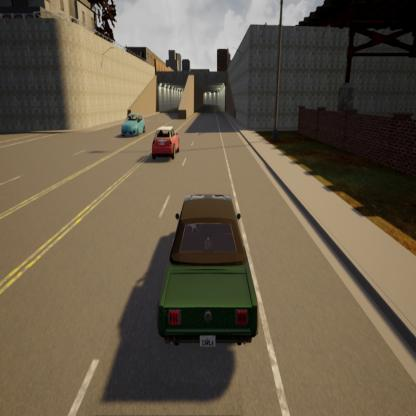Cars: (159, 195, 258, 349), (151, 126, 181, 161), (121, 110, 146, 135)
